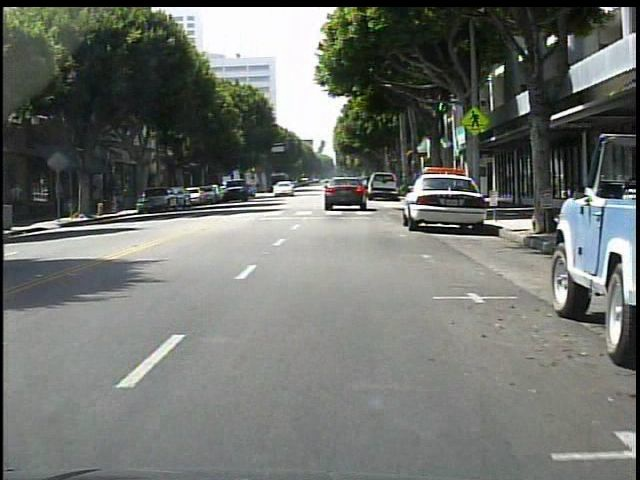person: (13, 179, 31, 228)
